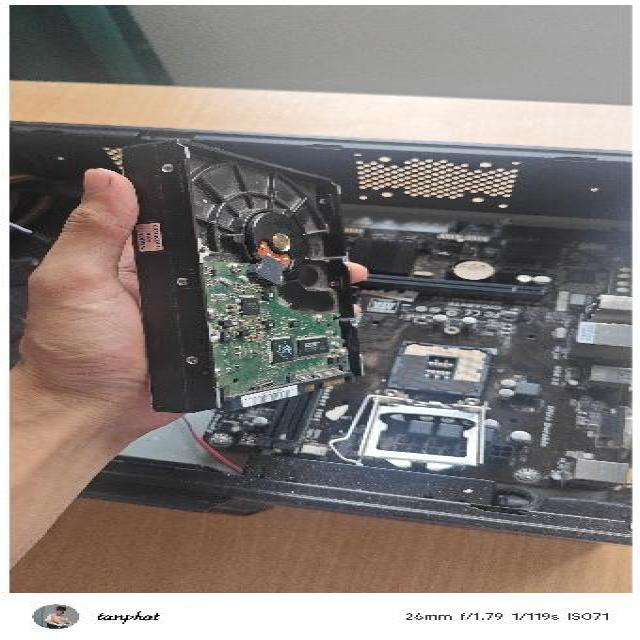DISK: (116, 134, 376, 412)
Mainboard: (225, 196, 635, 514)
